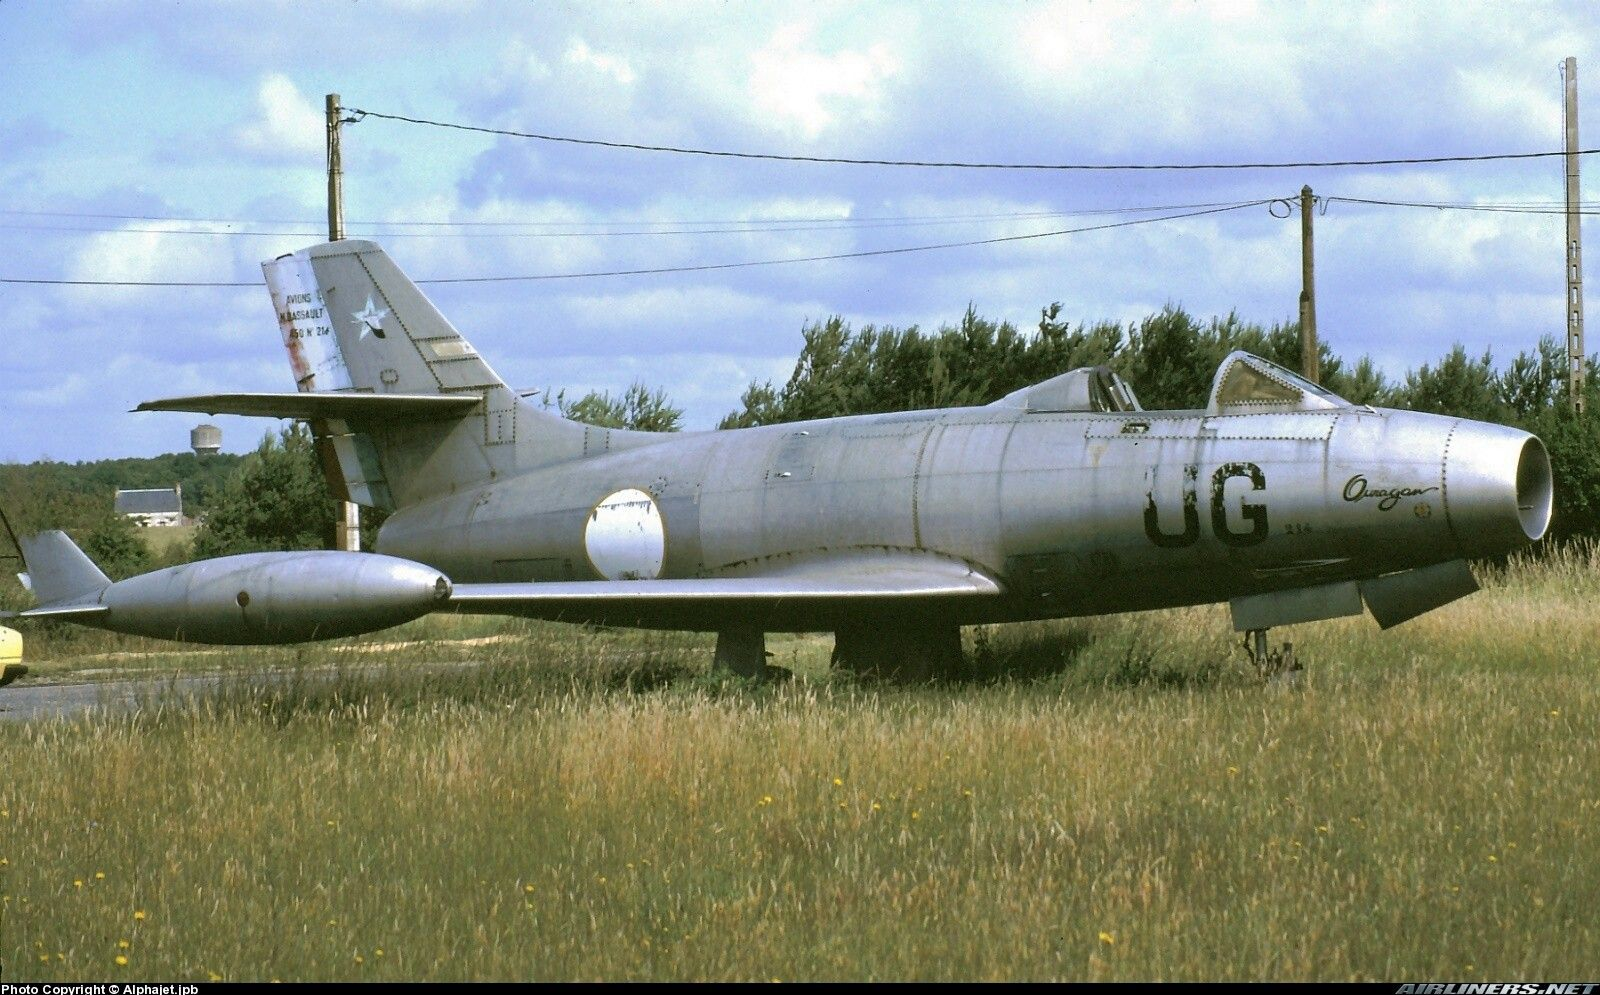Aeronef_militaire: (3, 225, 1568, 697)
